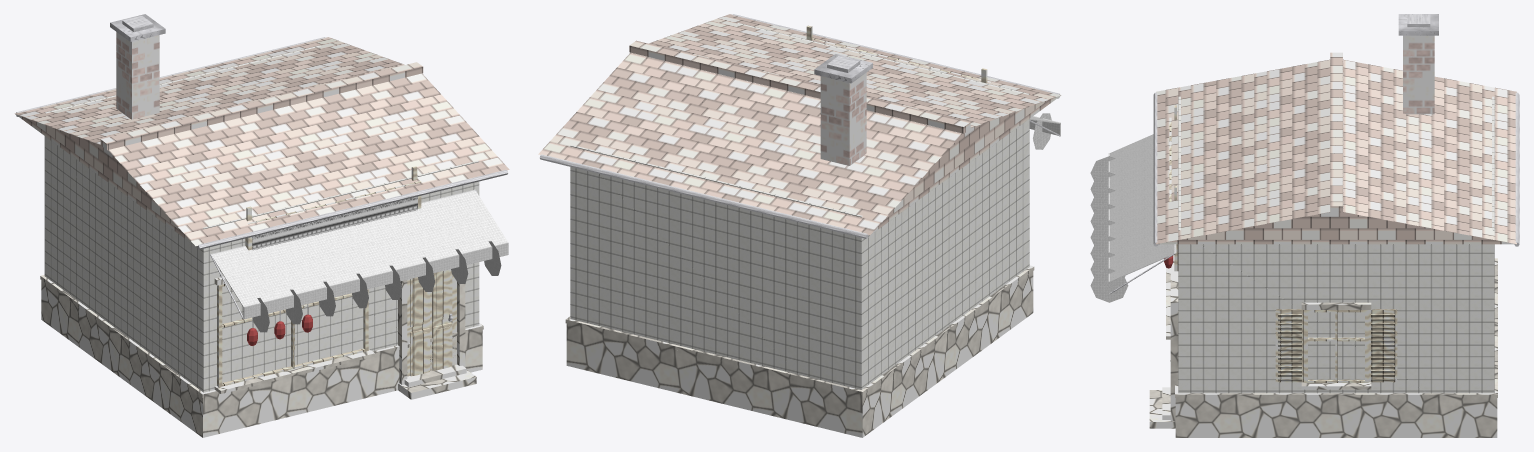
Rendered from macelleria.obj.
3 views of the same model, side by side, from view 1: azimuth 30°, elevation 25°; view 2: azimuth 150°, elevation 25°; view 3: azimuth 270°, elevation 25° (orthographic). The views are drawn at different scales.
Visible parts, largest first — view 1: tegole_002, piastrelle_muro_000, pietra_001, tessuto_009, tessuto_010, mattone_004, stampa_a_008, legno_015, metallo_003, legno_013, legno_020, pietra_014 (+7 smaller); view 2: piastrelle_muro_000, tegole_002, pietra_001, mattone_004, metallo_003, cemento_005, tessuto_009, legno_007; view 3: tegole_002, piastrelle_muro_000, pietra_001, tessuto_010, legno_025, tessuto_009, mattone_004, metallo_003, legno_023, pietra_014, pietra_024, pietra_017 (+2 smaller).
Boxes of the visible parts, x1,y1,x2,y2 form: tegole_002: (14, 37, 509, 246); piastrelle_muro_000: (44, 45, 479, 392); pietra_001: (40, 274, 483, 437); tessuto_009: (210, 198, 475, 332); tessuto_010: (243, 189, 508, 324); mattone_004: (116, 32, 159, 119); stampa_a_008: (252, 196, 417, 250); legno_015: (414, 269, 449, 375); metallo_003: (16, 37, 507, 249); legno_013: (407, 269, 456, 376); legno_020: (217, 283, 368, 387); pietra_014: (398, 280, 465, 384); piastrelle_muro_000: (570, 23, 1029, 389); tegole_002: (538, 14, 1061, 235); pietra_001: (565, 265, 1034, 437); mattone_004: (820, 72, 866, 165); metallo_003: (539, 14, 1059, 238); cemento_005: (814, 54, 872, 83); tessuto_009: (1029, 113, 1060, 149); legno_007: (806, 25, 991, 83); tegole_002: (1156, 52, 1516, 244); piastrelle_muro_000: (1178, 96, 1494, 393); pietra_001: (1175, 258, 1497, 437); tessuto_010: (1090, 150, 1176, 302); legno_025: (1275, 309, 1397, 382); tessuto_009: (1090, 134, 1153, 277); mattone_004: (1403, 35, 1434, 114); metallo_003: (1153, 92, 1519, 246); legno_023: (1304, 310, 1368, 382); pietra_014: (1170, 271, 1178, 421); pietra_024: (1301, 302, 1371, 389); pietra_017: (1149, 390, 1175, 428).
Bounding box in the file's own units: 5.74 × 5.41 × 6.77.
23 materials, 22 textured.
